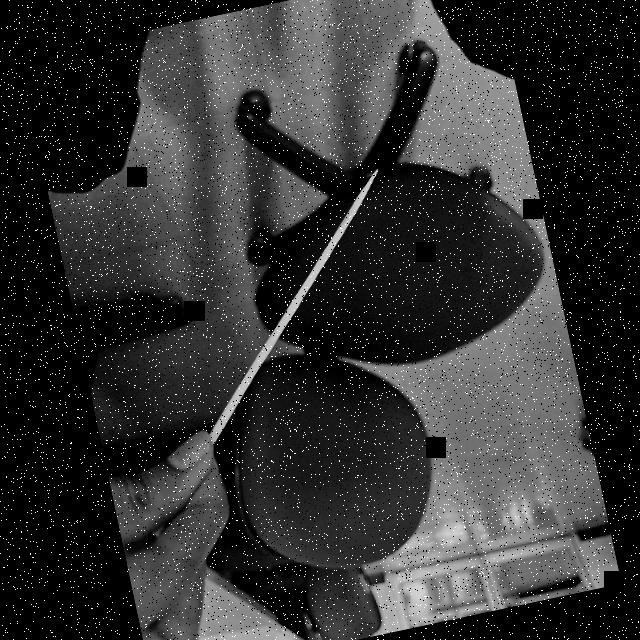stick: (151, 167, 427, 451)
